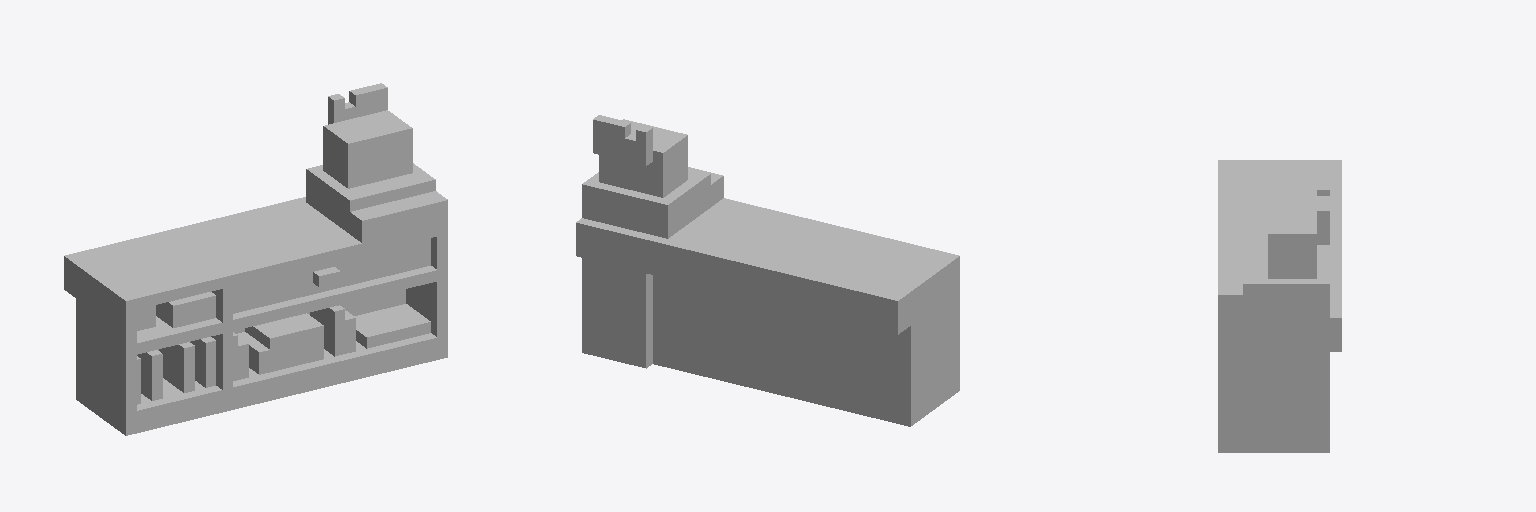
The model's file is counter.obj.
3 renders of one model, left to right at view 1: azimuth 30°, elevation 25°; view 2: azimuth 150°, elevation 25°; view 3: azimuth 270°, elevation 25°, orthographic.
Bounding box in the file's own units: 30 × 21 × 10.